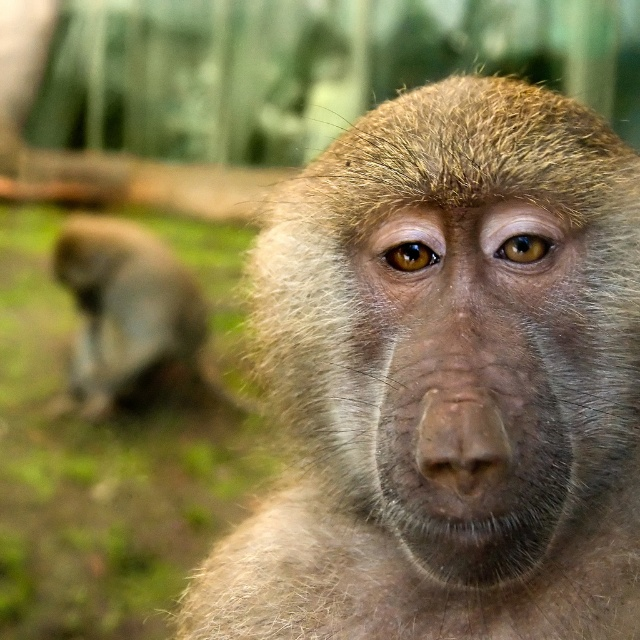Monkey: (163, 58, 637, 640), (50, 218, 255, 433)
